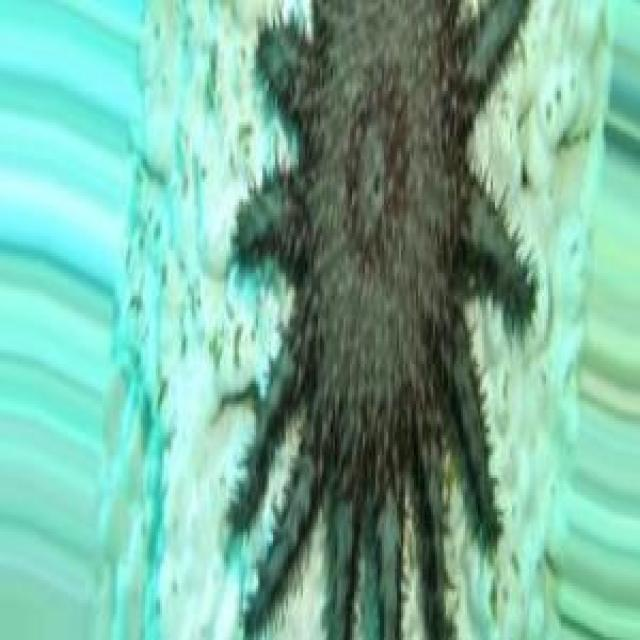Healthy: (229, 1, 534, 638)
